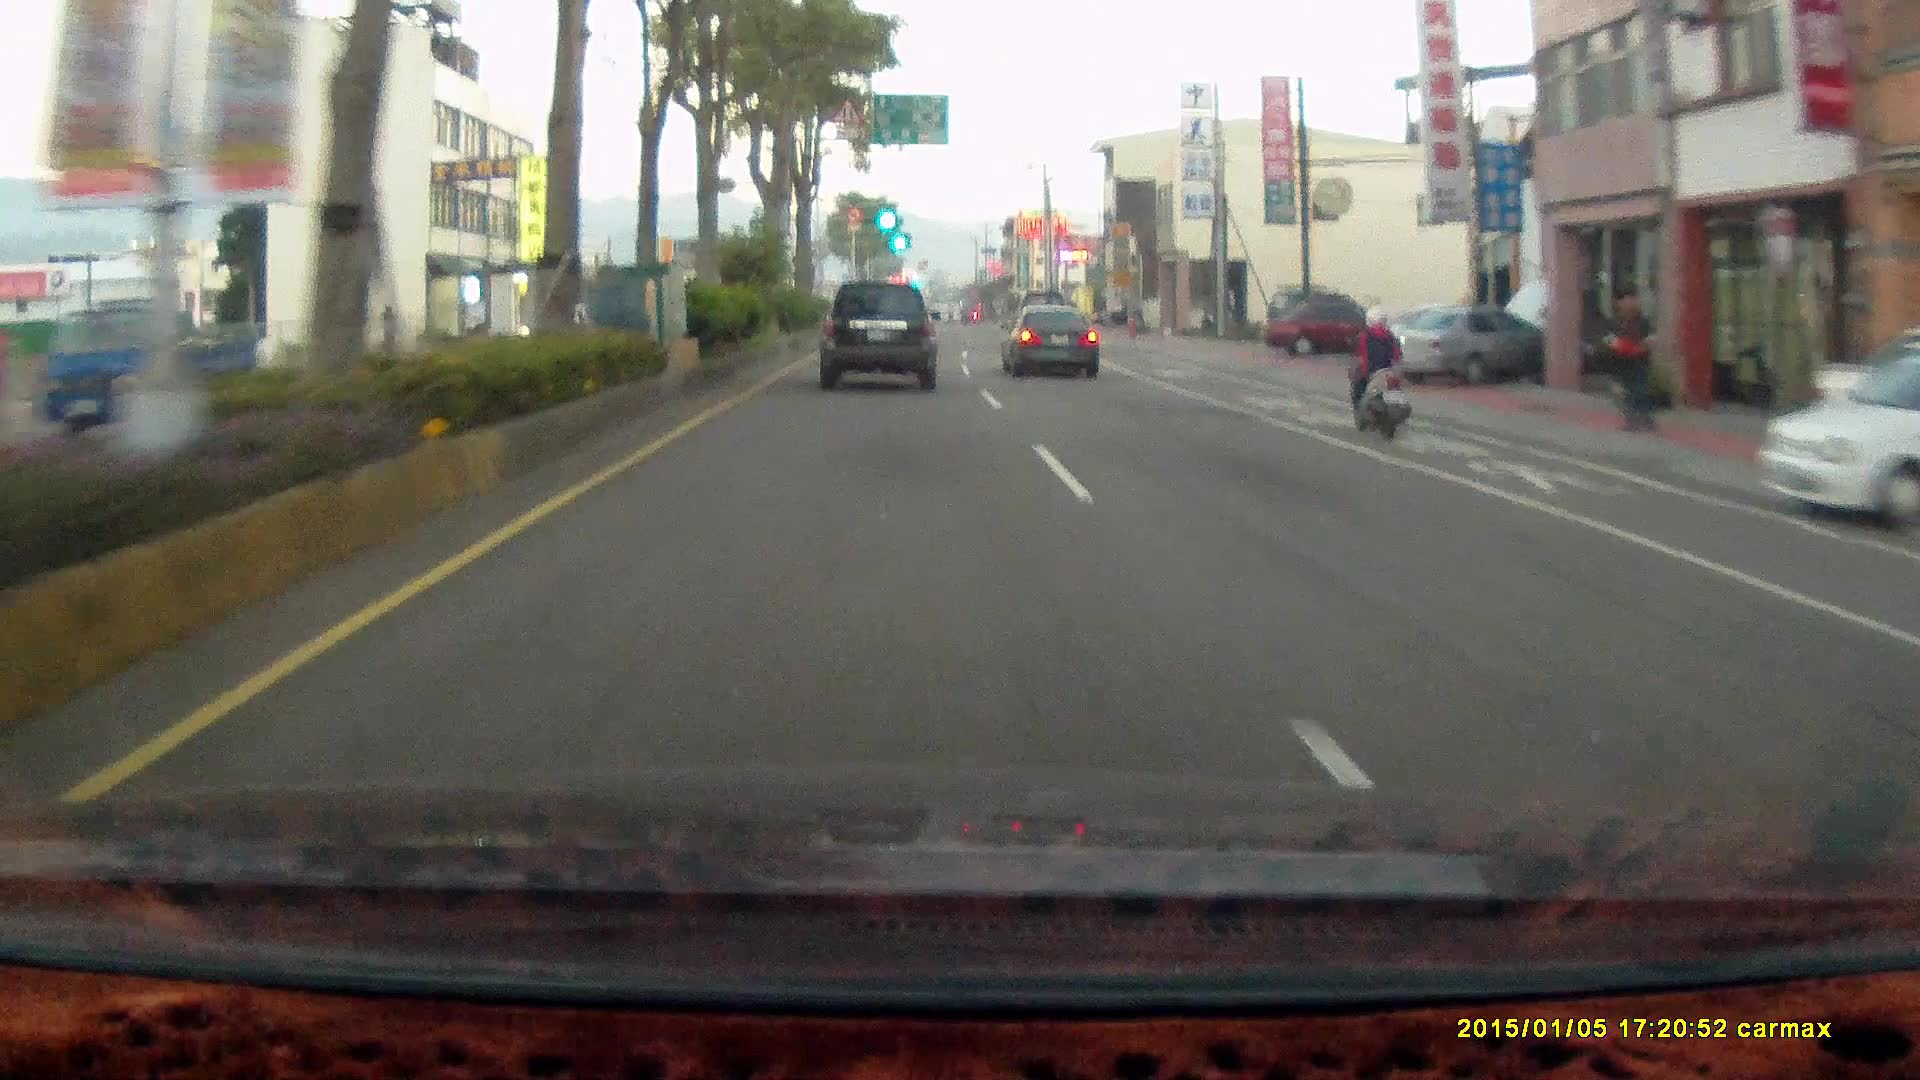pedestrian: (1600, 285, 1670, 442)
rider: (1333, 294, 1423, 449), (1342, 298, 1412, 432)
vehicle: (1757, 326, 1920, 532), (36, 301, 255, 444), (1750, 359, 1920, 530), (1382, 305, 1554, 392), (1374, 307, 1552, 390), (819, 283, 944, 394), (817, 281, 941, 391), (1004, 307, 1106, 381), (1000, 306, 1100, 378), (1265, 300, 1378, 363), (1263, 301, 1379, 360)
